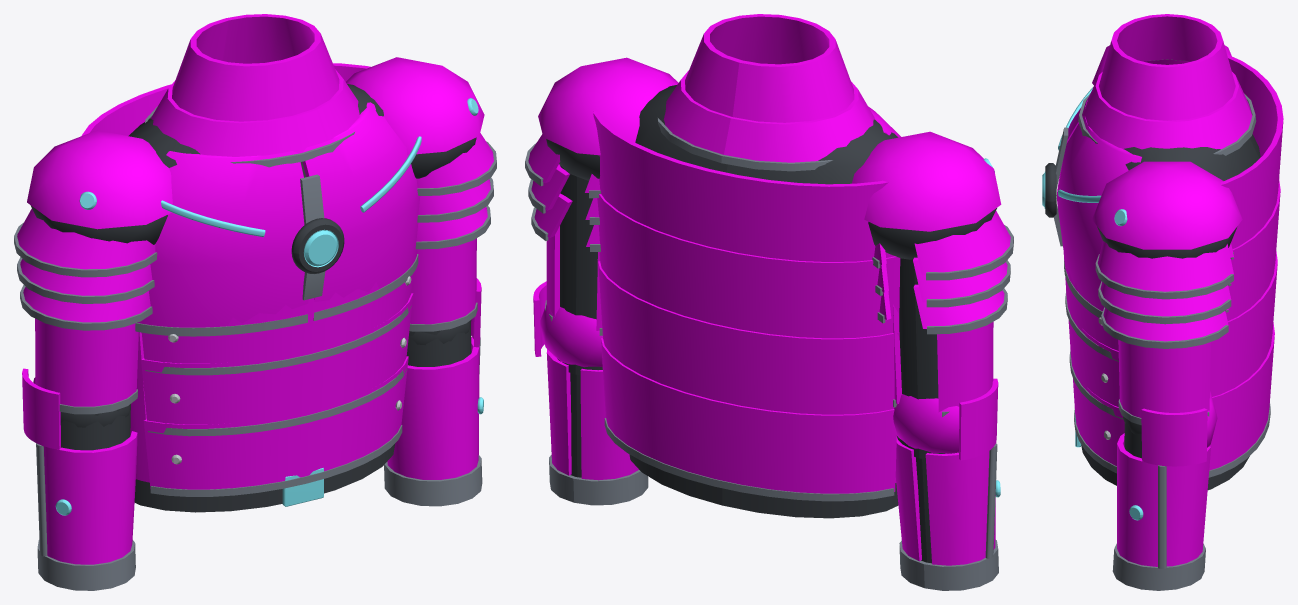
The model's file is porte_armure4_plastron.glb.
3 views of the same model, side by side, from view 1: azimuth 30°, elevation 25°; view 2: azimuth 150°, elevation 25°; view 3: azimuth 270°, elevation 25° (orthographic). The views are drawn at different scales.
Parts seen in each view (by area): view 1: poitrine__plastron_teinte.010, ventre__plastron_teinte.010, avantbras_d__plastron_teinte.010, poitrine__plastron_acier_lisere.002, avantbras_g__plastron_teinte.010, bras_d__plastron_teinte.010, ventre__plastron_acier_lisere.002, poitrine__plastron_teinte_sombre.008, bras_g__plastron_teinte.010, avantbras_d__plastron_acier_lisere.002, ventre__plastron_teinte_sombre.008, poitrine__plastron_lueur.002 (+5 smaller); view 2: poitrine__plastron_teinte.010, ventre__plastron_teinte.010, avantbras_d__plastron_teinte.010, avantbras_g__plastron_teinte.010, poitrine__plastron_teinte_sombre.008, poitrine__plastron_acier_lisere.002, bras_d__plastron_teinte.010, bras_g__plastron_teinte_sombre.008, ventre__plastron_teinte_sombre.008, bras_d__plastron_teinte_sombre.008, avantbras_d__plastron_acier_lisere.002, avantbras_g__plastron_acier_lisere.002 (+4 smaller); view 3: poitrine__plastron_teinte.010, ventre__plastron_teinte.010, avantbras_g__plastron_teinte.010, bras_g__plastron_teinte.010, poitrine__plastron_acier_lisere.002, poitrine__plastron_teinte_sombre.008, avantbras_g__plastron_acier_lisere.002, ventre__plastron_acier_lisere.002, poitrine__plastron_lueur.002, ventre__plastron_teinte_sombre.008, avantbras_g__plastron_teinte_sombre.008.
Boxes of the visible parts, <box> form: poitrine__plastron_teinte.010: <box>17,14,493,327</box>; ventre__plastron_teinte.010: <box>130,274,413,489</box>; avantbras_d__plastron_teinte.010: <box>22,368,137,564</box>; poitrine__plastron_acier_lisere.002: <box>14,106,496,336</box>; avantbras_g__plastron_teinte.010: <box>387,278,481,479</box>; bras_d__plastron_teinte.010: <box>35,318,138,406</box>; ventre__plastron_acier_lisere.002: <box>145,305,411,496</box>; poitrine__plastron_teinte_sombre.008: <box>30,84,476,273</box>; bras_g__plastron_teinte.010: <box>410,238,476,324</box>; avantbras_d__plastron_acier_lisere.002: <box>36,443,135,590</box>; ventre__plastron_teinte_sombre.008: <box>134,443,395,512</box>; poitrine__plastron_lueur.002: <box>79,98,478,267</box>; poitrine__plastron_teinte.010: <box>528,14,1010,338</box>; ventre__plastron_teinte.010: <box>597,259,899,493</box>; avantbras_d__plastron_teinte.010: <box>893,378,998,565</box>; avantbras_g__plastron_teinte.010: <box>533,281,638,480</box>; poitrine__plastron_teinte_sombre.008: <box>546,85,996,259</box>; poitrine__plastron_acier_lisere.002: <box>525,118,1013,334</box>; bras_d__plastron_teinte.010: <box>893,304,993,412</box>; bras_g__plastron_teinte_sombre.008: <box>557,164,602,375</box>; ventre__plastron_teinte_sombre.008: <box>629,454,898,518</box>; bras_d__plastron_teinte_sombre.008: <box>897,258,958,459</box>; avantbras_d__plastron_acier_lisere.002: <box>899,443,998,590</box>; avantbras_g__plastron_acier_lisere.002: <box>549,451,648,505</box>; poitrine__plastron_teinte.010: <box>1056,14,1283,341</box>; ventre__plastron_teinte.010: <box>1063,252,1277,470</box>; avantbras_g__plastron_teinte.010: <box>1117,391,1217,566</box>; bras_g__plastron_teinte.010: <box>1118,340,1210,417</box>; poitrine__plastron_acier_lisere.002: <box>1053,59,1256,348</box>; poitrine__plastron_teinte_sombre.008: <box>1045,134,1260,258</box>; avantbras_g__plastron_acier_lisere.002: <box>1112,465,1205,590</box>; ventre__plastron_acier_lisere.002: <box>1065,291,1270,477</box>; poitrine__plastron_lueur.002: <box>1042,87,1127,226</box>; ventre__plastron_teinte_sombre.008: <box>1081,445,1249,490</box>; avantbras_g__plastron_teinte_sombre.008: <box>1123,416,1141,458</box>.
Size of the model in its own units: 0.6939 by 0.695 by 0.336.
